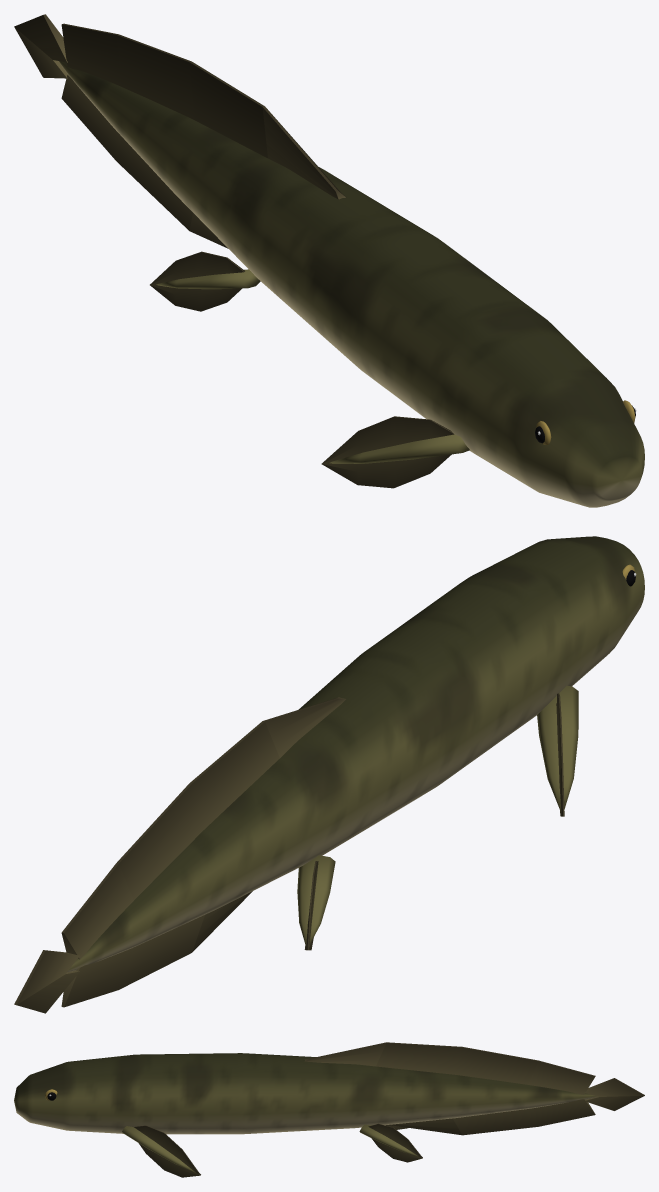
The model's file is Ceratodus.fbx.
3 renders of one model, top to bottom at view 1: azimuth 30°, elevation 25°; view 2: azimuth 150°, elevation 25°; view 3: azimuth 270°, elevation 25°, orthographic. The views are drawn at different scales.
Visible parts, largest first — view 1: Ceratodus; view 2: Ceratodus; view 3: Ceratodus.
Boxes of the visible parts, <box> form: Ceratodus: <box>14,14,644,507</box>; Ceratodus: <box>14,536,644,1013</box>; Ceratodus: <box>14,1042,644,1177</box>.
Size of the model in its own units: 0.3842 by 0.3164 by 1.66.
